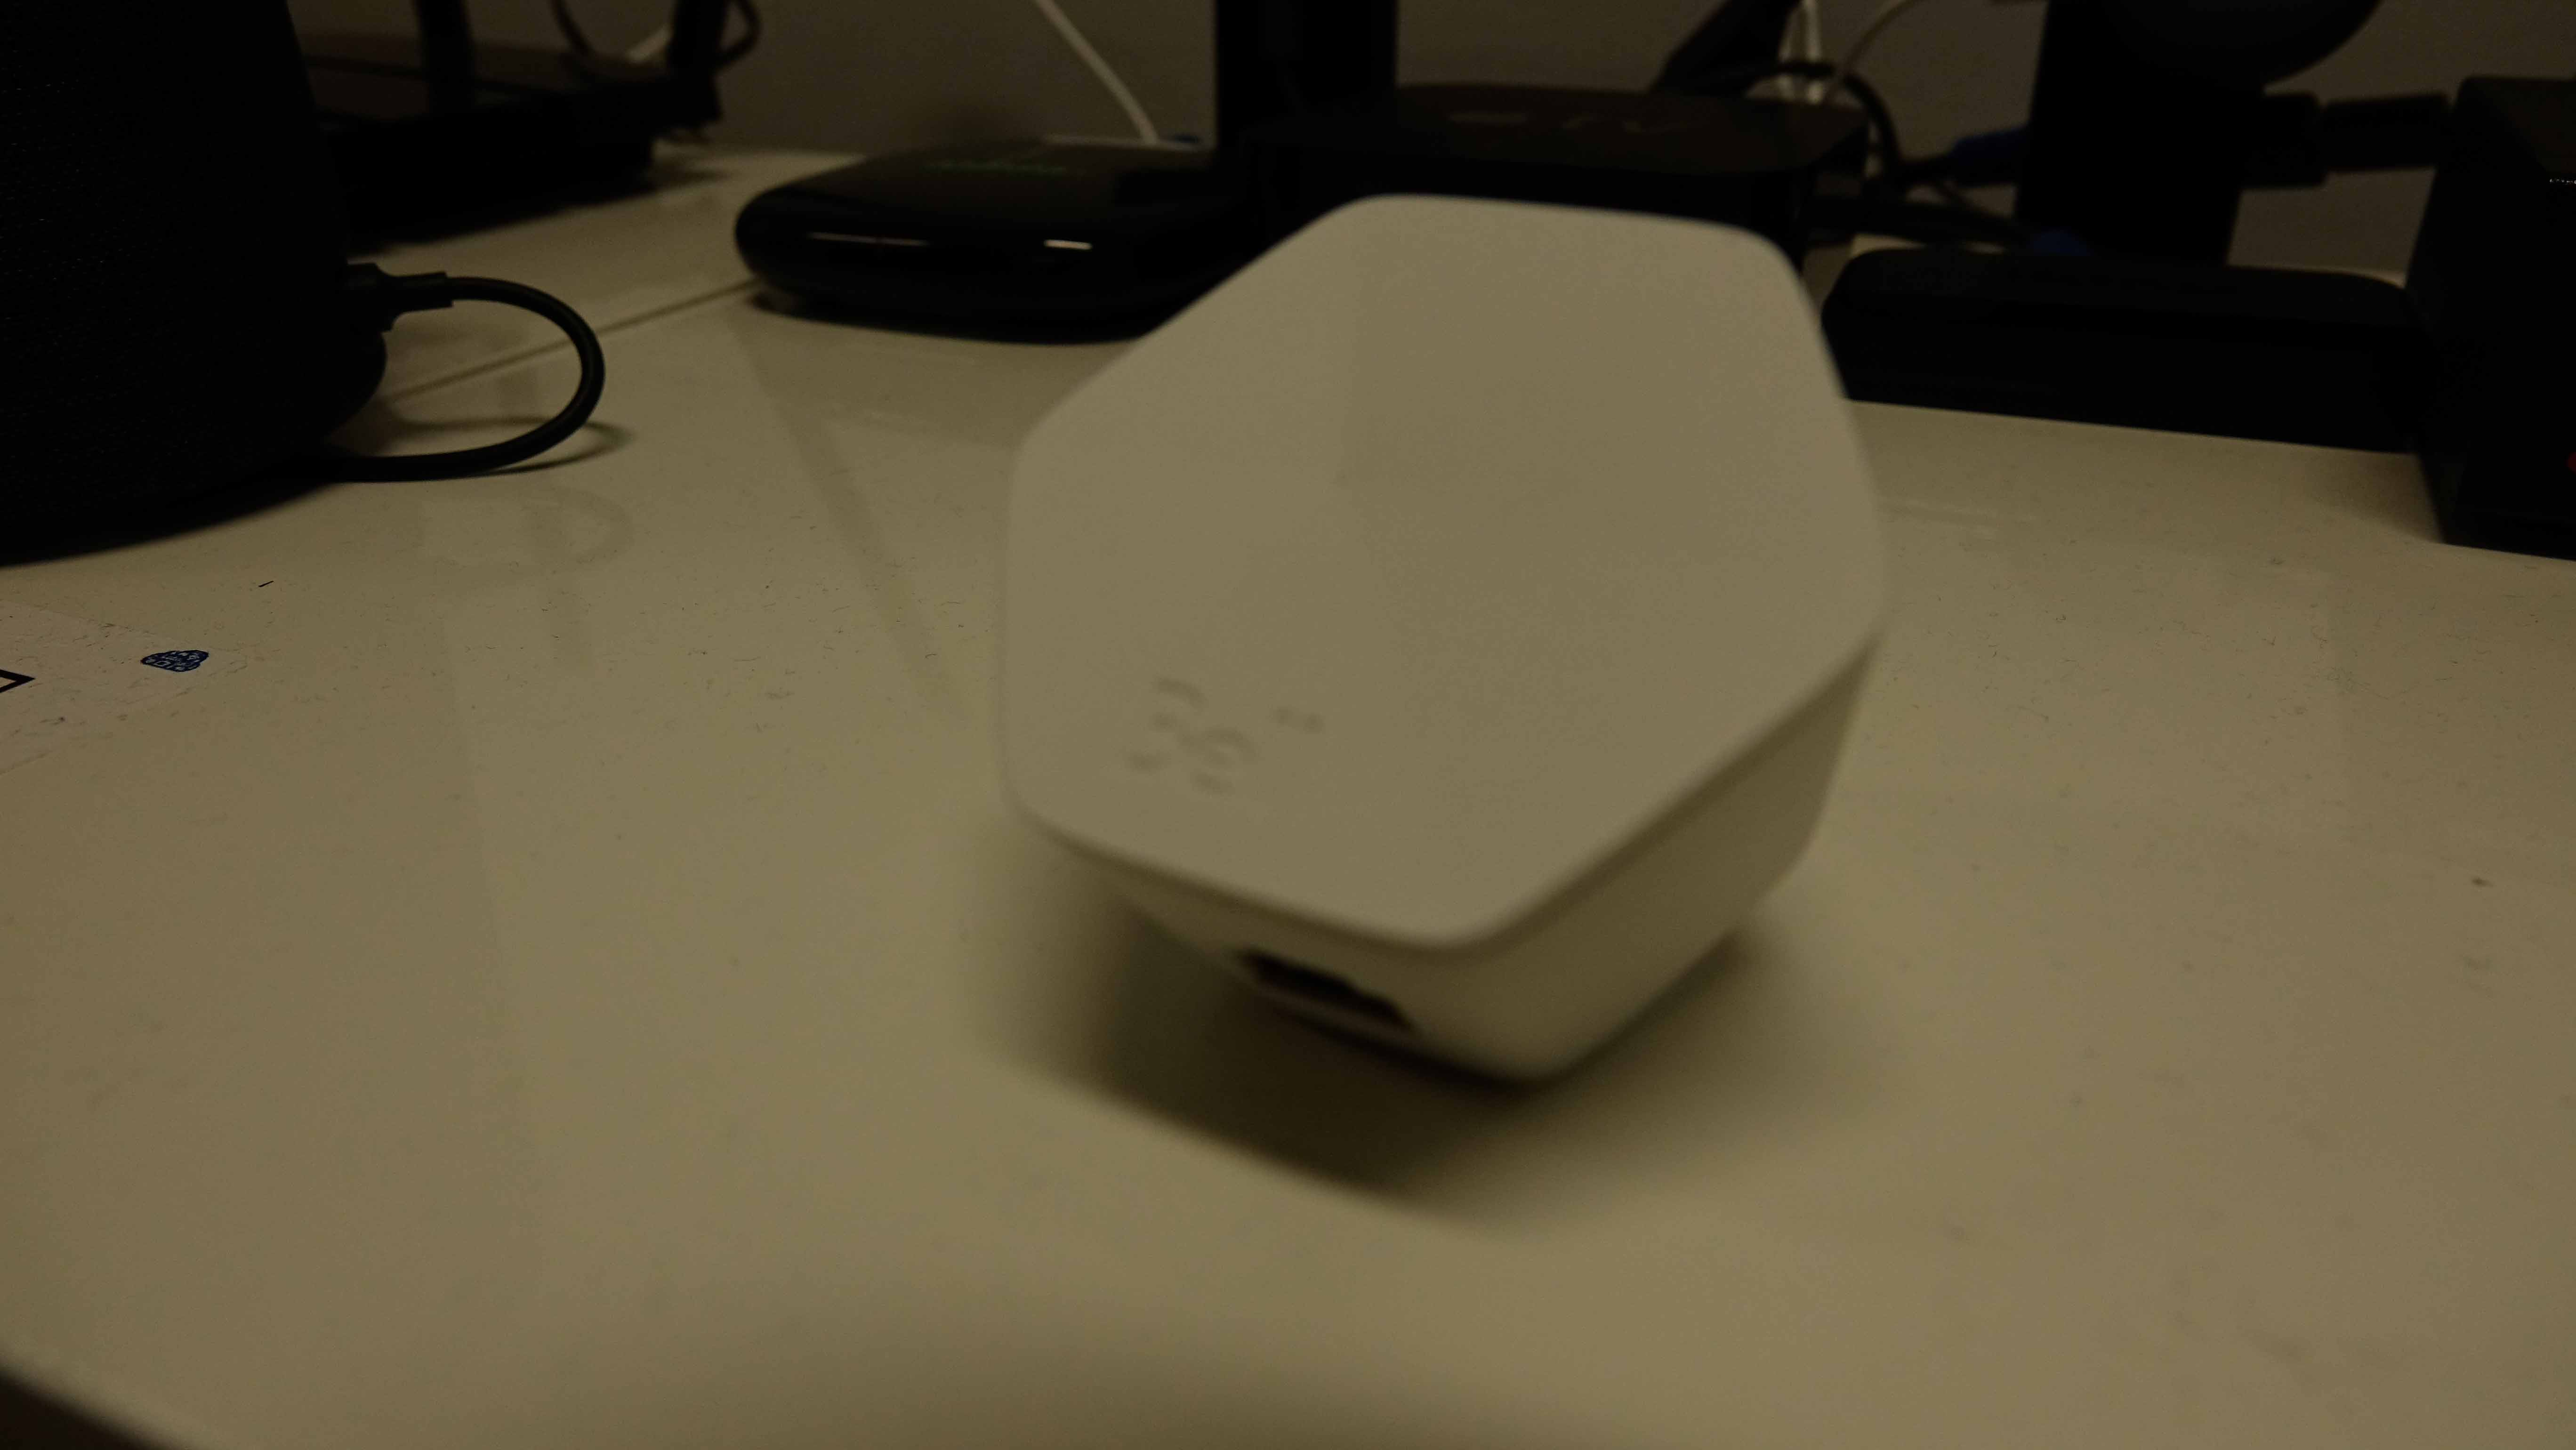pod: (970, 184, 1920, 1112)
